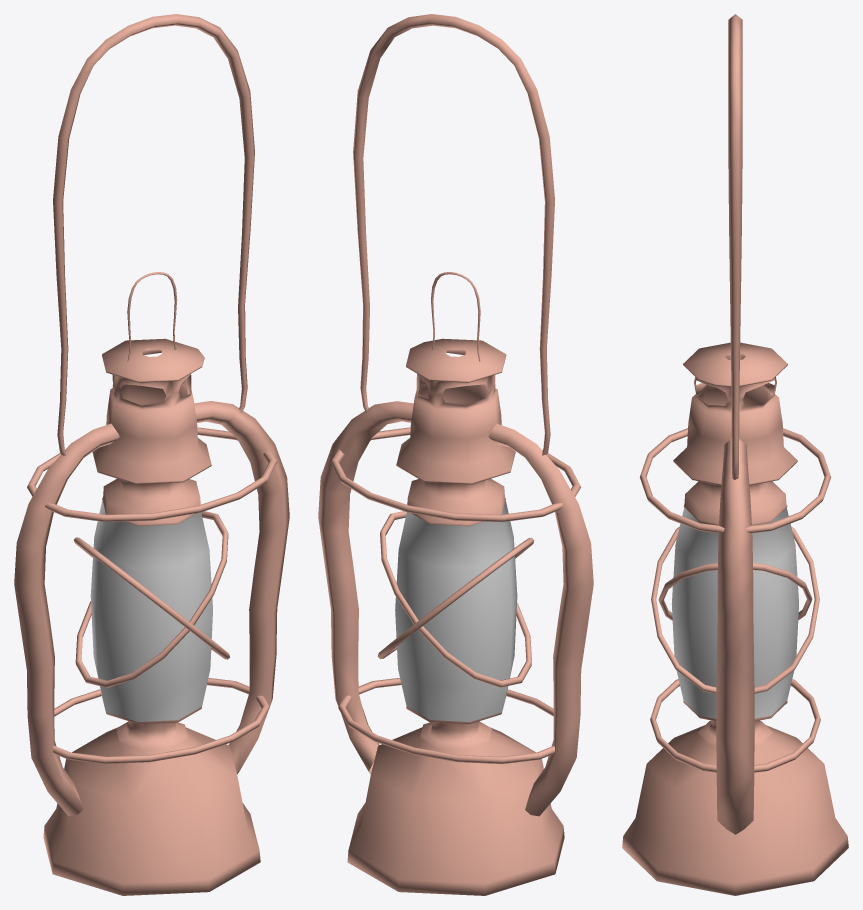
Rendered from lampe_à_huile_lowpoly.fbx.
The picture shows the model from 3 angles, left to right: view 1: azimuth 30°, elevation 25°; view 2: azimuth 150°, elevation 25°; view 3: azimuth 270°, elevation 25°; orthographic projection.
Visible parts, largest first — view 1: Circle.004, Circle.006; view 2: Circle.004, Circle.006; view 3: Circle.004, Circle.006.
Boxes of the visible parts, x1,y1,x2,y2 form: Circle.004: (14, 272, 289, 895); Circle.006: (53, 14, 254, 455); Circle.004: (318, 272, 593, 895); Circle.006: (353, 14, 554, 455); Circle.004: (622, 342, 848, 895); Circle.006: (728, 14, 742, 479).
Bounding box in the file's own units: 16.33 × 47.16 × 11.78.
